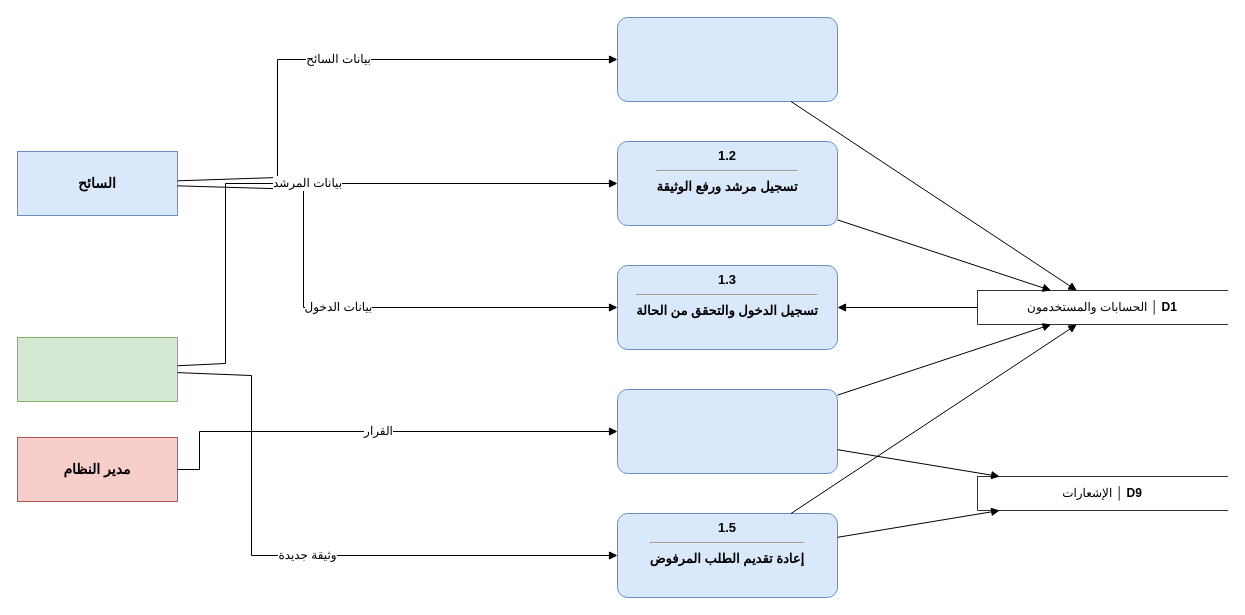
The diagram is 1245 pixels wide and 615 high, and some of its shapes have lost their labels. The shapes that lost their labels are listed below. From the top down, each one's centre as x and y in pixels, then its label:
the point at 727,59: 1.1 تسجيل سائح
the point at 97,369: المرشد السياحي
the point at 727,431: 1.4 اعتماد أو رفض المرشد
